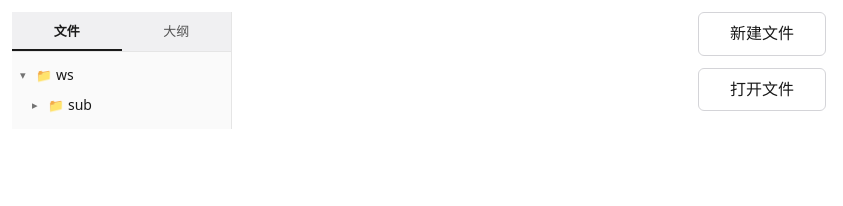
Test case: App file workflow › reloadWorkspace keeps expanded folders open and re-fetches children
Click the button with aria-label "展开 sub" at (132, 105), box [32,90,231,121]
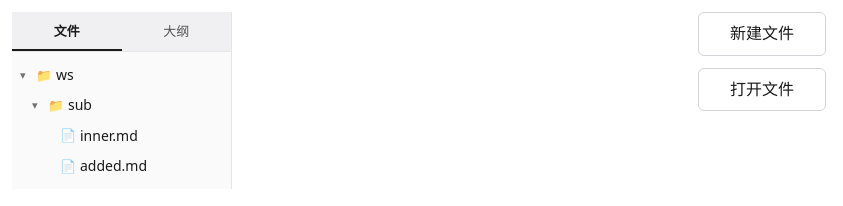
Check: the button "📄 inner.md" is shown, box [44,121,231,151]
Check: the button with aria-label "折叠 sub" is shown, box [32,90,231,121]
Check: the button "📄 added.md" is shown, box [44,151,231,181]
